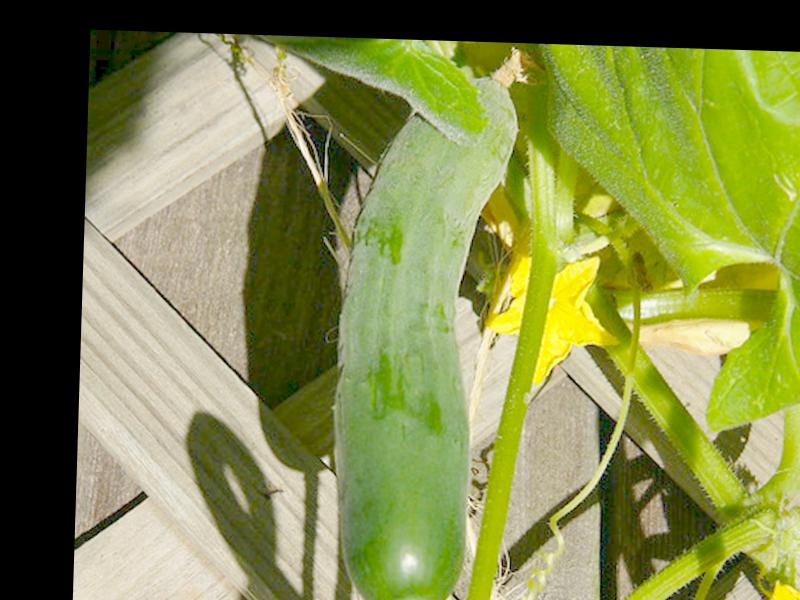Cucumber: (326, 43, 520, 600)
